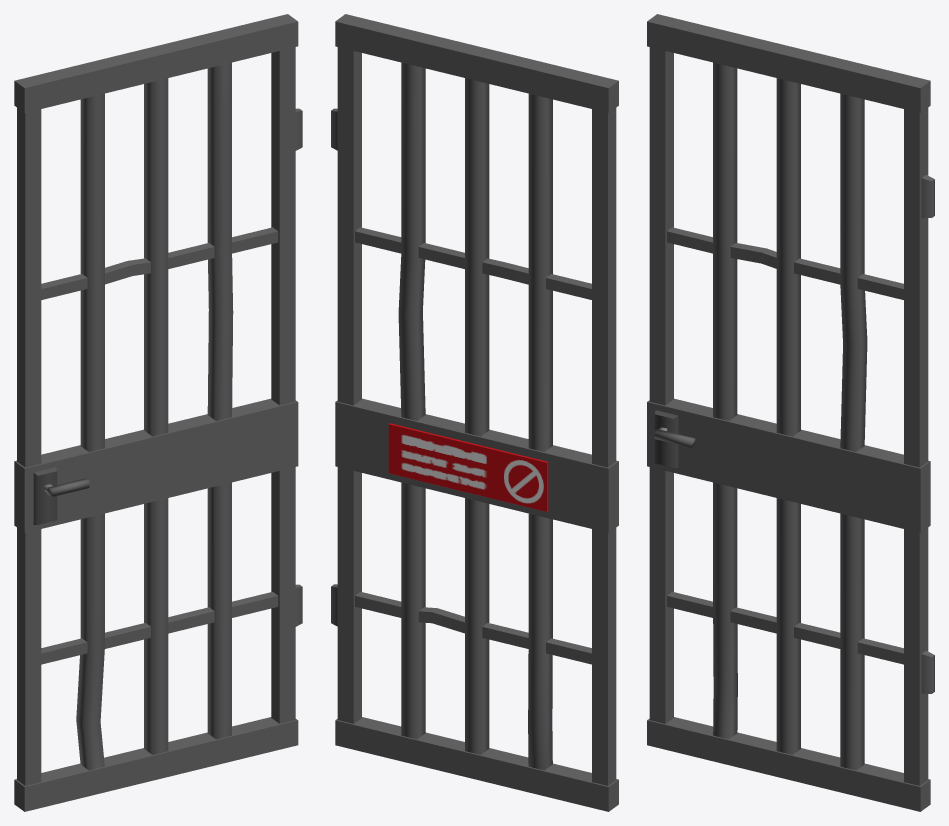
Rendered from SW_PROP_Barrier_Gate.fbx.
The picture shows the model from 3 angles, left to right: view 1: azimuth 30°, elevation 25°; view 2: azimuth 150°, elevation 25°; view 3: azimuth 330°, elevation 25°; orthographic projection.
Parts seen in each view (by area): view 1: SW_PROP_Barrier_Gate; view 2: SW_PROP_Barrier_Gate; view 3: SW_PROP_Barrier_Gate.
Part boxes in pixels (left/top/right/bottom): SW_PROP_Barrier_Gate: left=14, top=14, right=302, bottom=811; SW_PROP_Barrier_Gate: left=331, top=14, right=618, bottom=811; SW_PROP_Barrier_Gate: left=647, top=14, right=934, bottom=811.
Size of the model in its own units: 0.885 by 2.17 by 0.1191.
